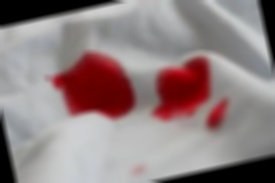blood: (47, 44, 140, 131), (142, 52, 220, 125)
